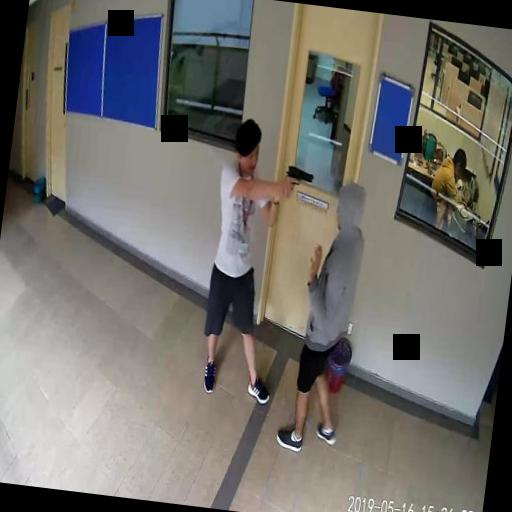Handgun: (284, 162, 314, 200)
